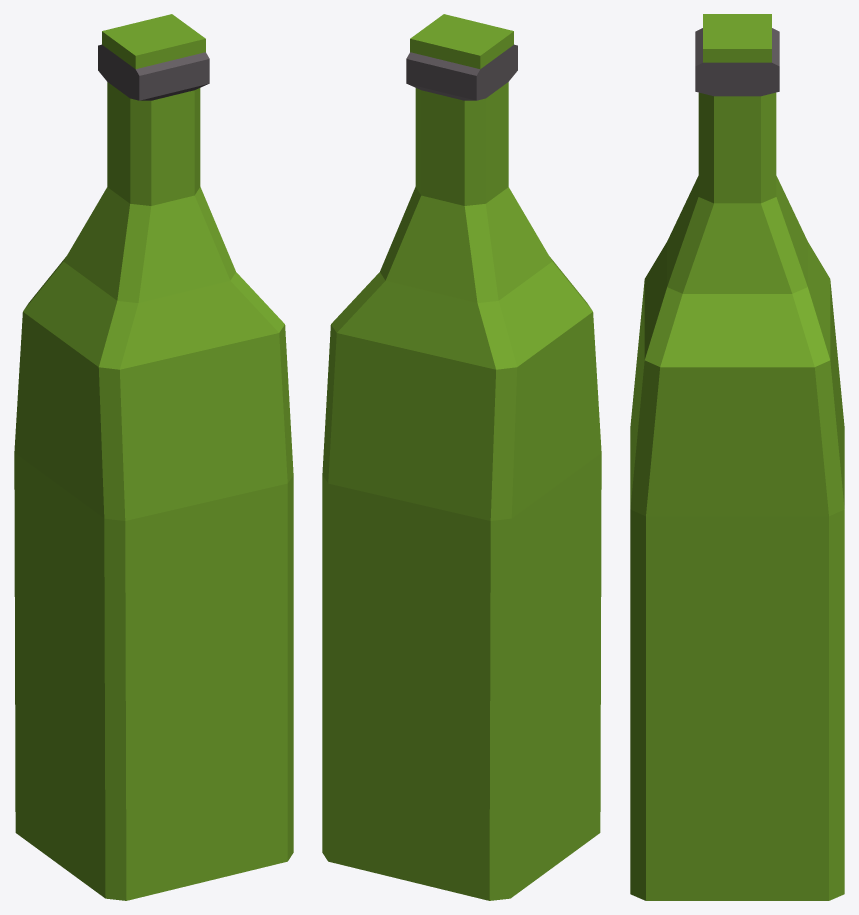
File: Drink.fbx
3 renders of one model, left to right at view 1: azimuth 30°, elevation 25°; view 2: azimuth 150°, elevation 25°; view 3: azimuth 270°, elevation 25°, orthographic.
Parts seen in each view (by area): view 1: Cube; view 2: Cube; view 3: Cube.
Part boxes in pixels (x1,y1,x2,y2): Cube: (14,14,293,900); Cube: (322,14,601,900); Cube: (630,14,844,900).
Size of the model in its own units: 105 by 428 by 101.
